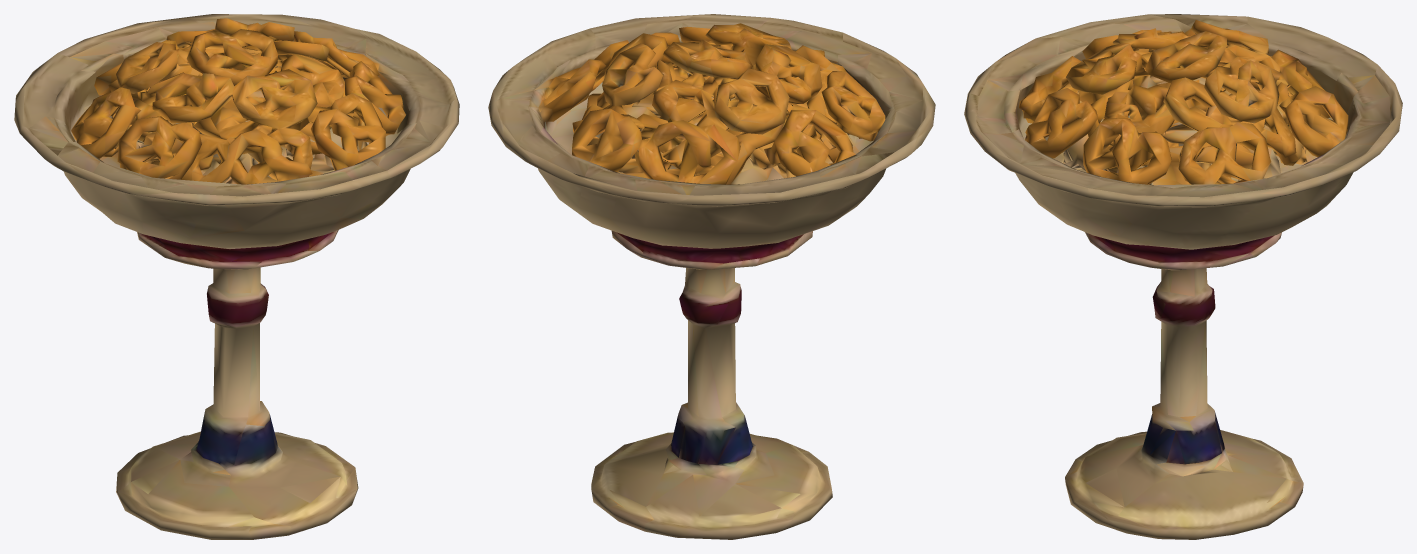
The model's file is snackBowl.glb.
The picture shows the model from 3 angles, left to right: view 1: azimuth 30°, elevation 25°; view 2: azimuth 150°, elevation 25°; view 3: azimuth 270°, elevation 25°; orthographic projection.
Visible parts, largest first — view 1: Mesh_0; view 2: Mesh_0; view 3: Mesh_0.
Boxes of the visible parts, box(x1,y1,x2,y2) form: Mesh_0: box(14, 14, 459, 539); Mesh_0: box(488, 14, 935, 539); Mesh_0: box(964, 14, 1402, 539).
Size of the model in its own units: 0.911 by 1 by 0.891.
Materials: 1 (1 with a texture image).
